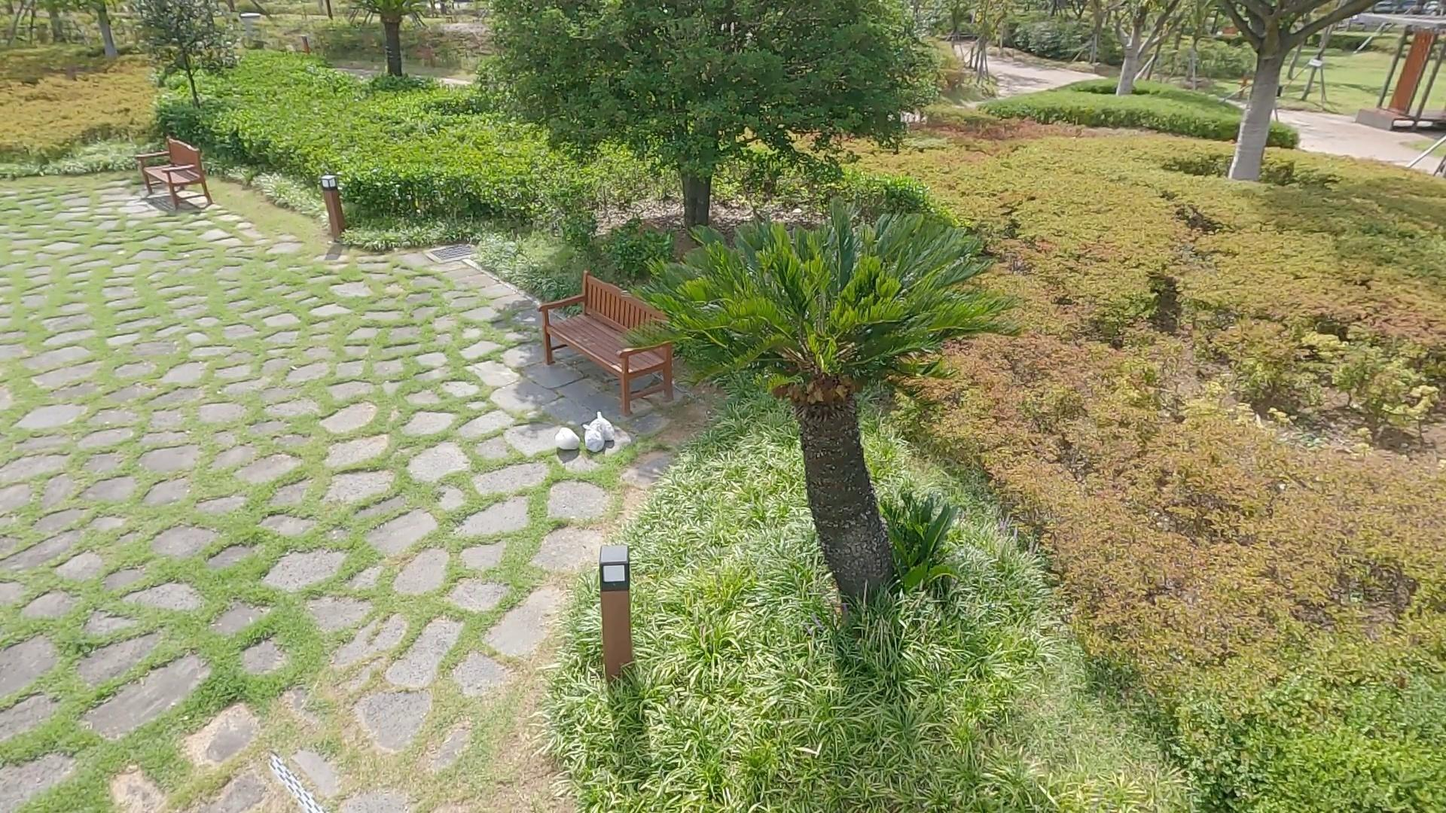trash: (587, 408, 616, 443), (553, 422, 581, 454), (582, 423, 607, 455)
